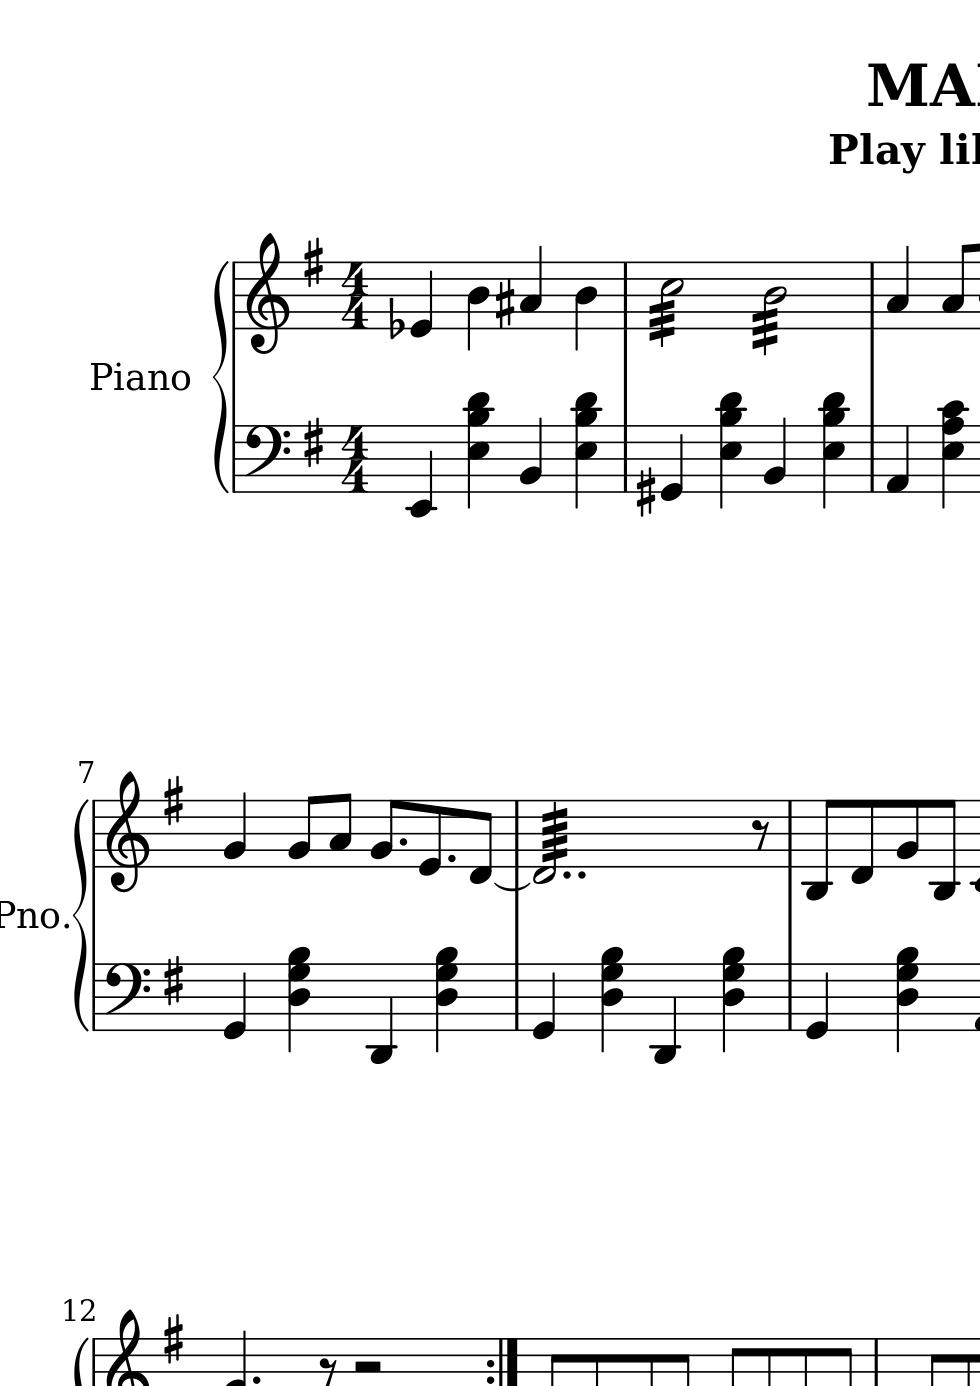1: (62, 1297, 76, 1324)
2: (77, 1296, 97, 1324)
4: (339, 459, 372, 493), (339, 260, 371, 295), (340, 423, 372, 458), (339, 295, 371, 329)
4_-2: (406, 423, 435, 519)
4_-3: (366, 961, 395, 1068), (650, 961, 678, 1068)
4_0: (409, 260, 435, 340), (804, 961, 829, 1041), (222, 962, 247, 1041), (531, 962, 556, 1042), (660, 423, 684, 503)
4_1: (885, 424, 911, 496)
4_2: (222, 791, 249, 869), (518, 415, 544, 494), (763, 415, 787, 494)
4_3: (885, 244, 911, 331), (518, 244, 544, 330)
4_4: (463, 260, 489, 353), (572, 260, 597, 352)
4_th: (712, 392, 749, 516), (570, 391, 608, 509), (813, 391, 850, 514), (463, 389, 494, 514), (937, 394, 967, 510), (431, 940, 459, 1053), (284, 942, 312, 1054), (718, 942, 745, 1053), (892, 943, 918, 1054), (600, 947, 626, 1056)
7: (78, 758, 95, 785)
8_-1: (465, 799, 494, 885), (848, 797, 876, 885)
8_-3: (803, 799, 837, 901), (930, 799, 957, 902)
8_0: (416, 799, 444, 879)
8_2: (285, 794, 317, 869), (369, 799, 399, 869), (894, 799, 920, 869)
8_3: (940, 241, 972, 331), (327, 791, 352, 870)
Brace: (211, 262, 230, 497), (73, 796, 90, 1034)
Double_dot: (556, 869, 589, 881)
Fclef: (241, 423, 291, 495), (102, 961, 152, 1032)
Flat: (386, 295, 404, 343)
Gclef: (103, 770, 151, 894), (244, 230, 290, 355)
Pno: (89, 358, 193, 394), (1, 897, 59, 933)
Rests2: (351, 1359, 385, 1376)
Rests8: (751, 817, 771, 850), (317, 1355, 338, 1386)
Sharp: (159, 953, 186, 1008), (159, 774, 186, 828), (492, 277, 517, 330), (161, 1313, 185, 1365), (302, 416, 325, 470), (634, 464, 657, 517), (302, 236, 323, 290)
Single_barline: (509, 799, 525, 885), (780, 801, 798, 867), (617, 263, 634, 330), (864, 263, 880, 330), (864, 425, 880, 492), (782, 964, 798, 1031), (617, 426, 633, 492), (508, 964, 524, 1030), (227, 262, 241, 330), (88, 801, 101, 869), (229, 426, 241, 491), (89, 965, 101, 1030)
Slur: (495, 882, 533, 892)
Stem: (643, 260, 686, 347), (749, 261, 788, 355), (530, 797, 568, 889)
TimeSig: (339, 261, 371, 330), (339, 424, 371, 493)
dot: (444, 850, 458, 865), (396, 835, 409, 848)
